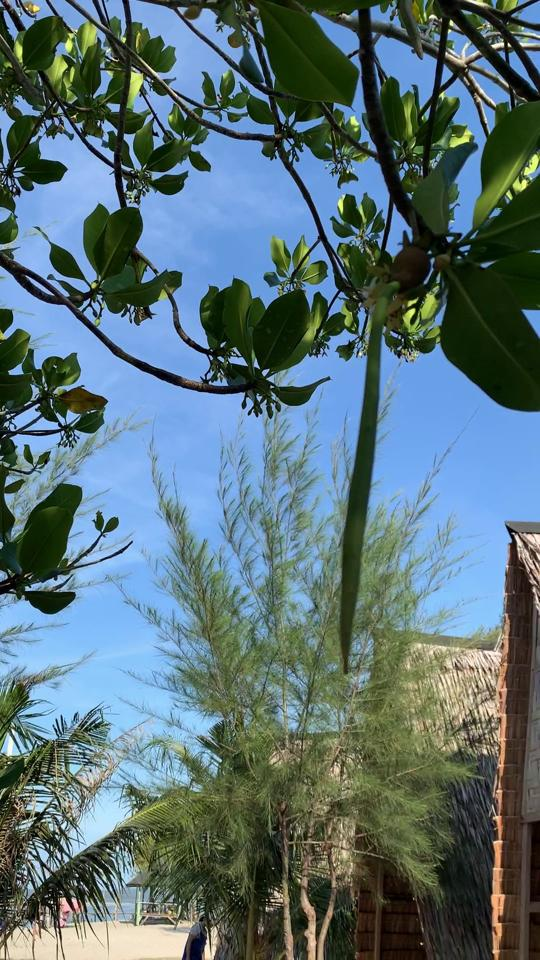mentah: (322, 214, 448, 699)
